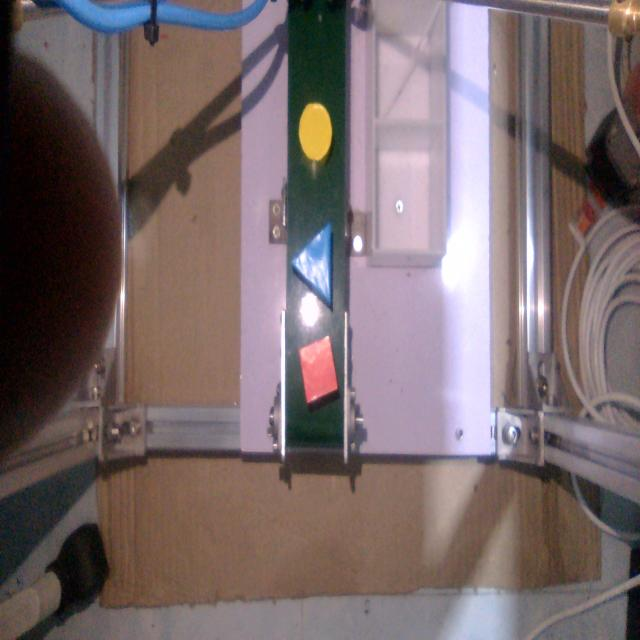BlueTri: (289, 212, 338, 317)
RedRec: (297, 332, 340, 412)
YelCir: (295, 98, 339, 171)
